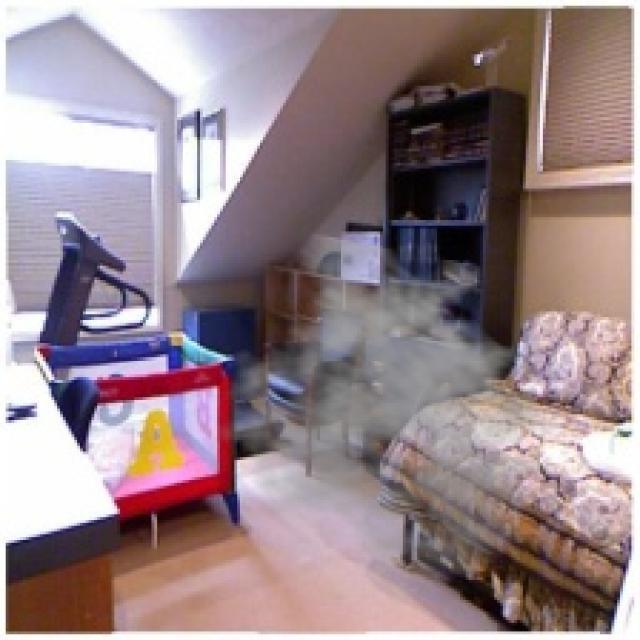Smoke: (211, 231, 580, 583)
